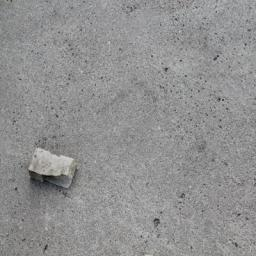FOD: (27, 146, 80, 191)
